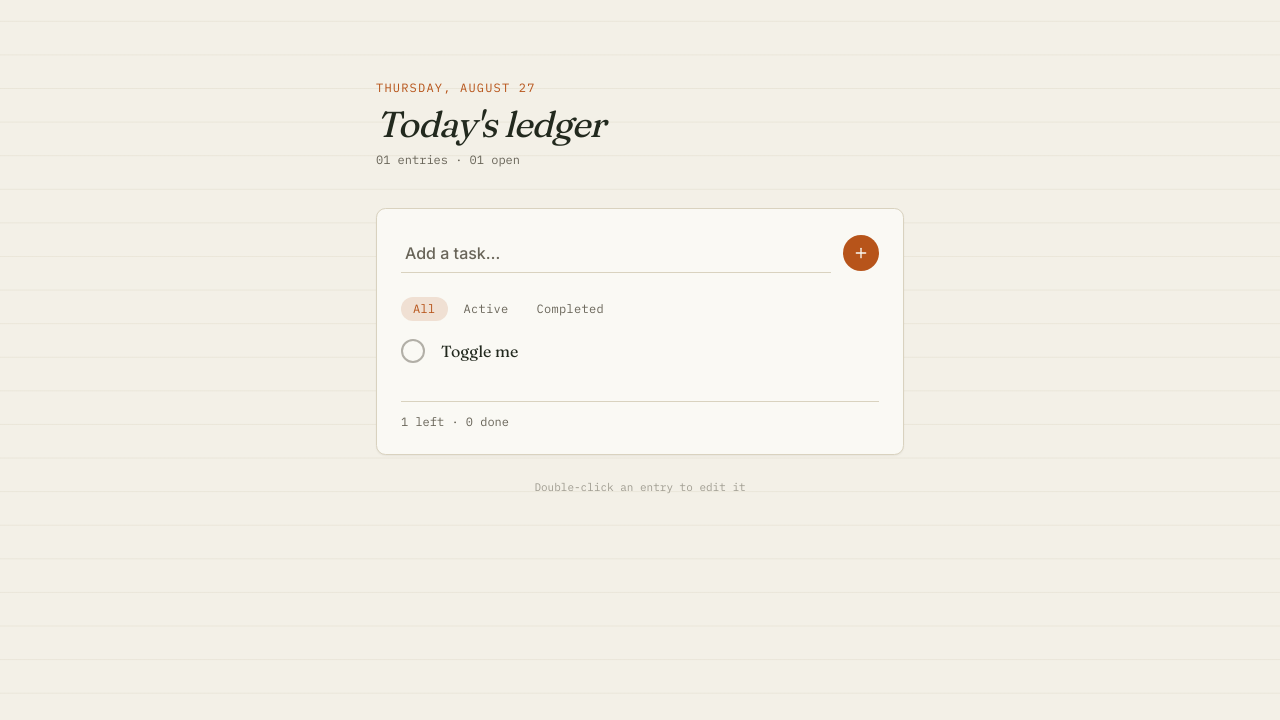
it: Todo app integration (Page + useTodos + api.ts, network mocked) › toggles a todo end-to-end and updates the footer count
Check: the text "Toggle me" is shown, box [441,341,518,361]
Click the checkbox named "Mark as done" at (413, 351), box [401,339,425,363]
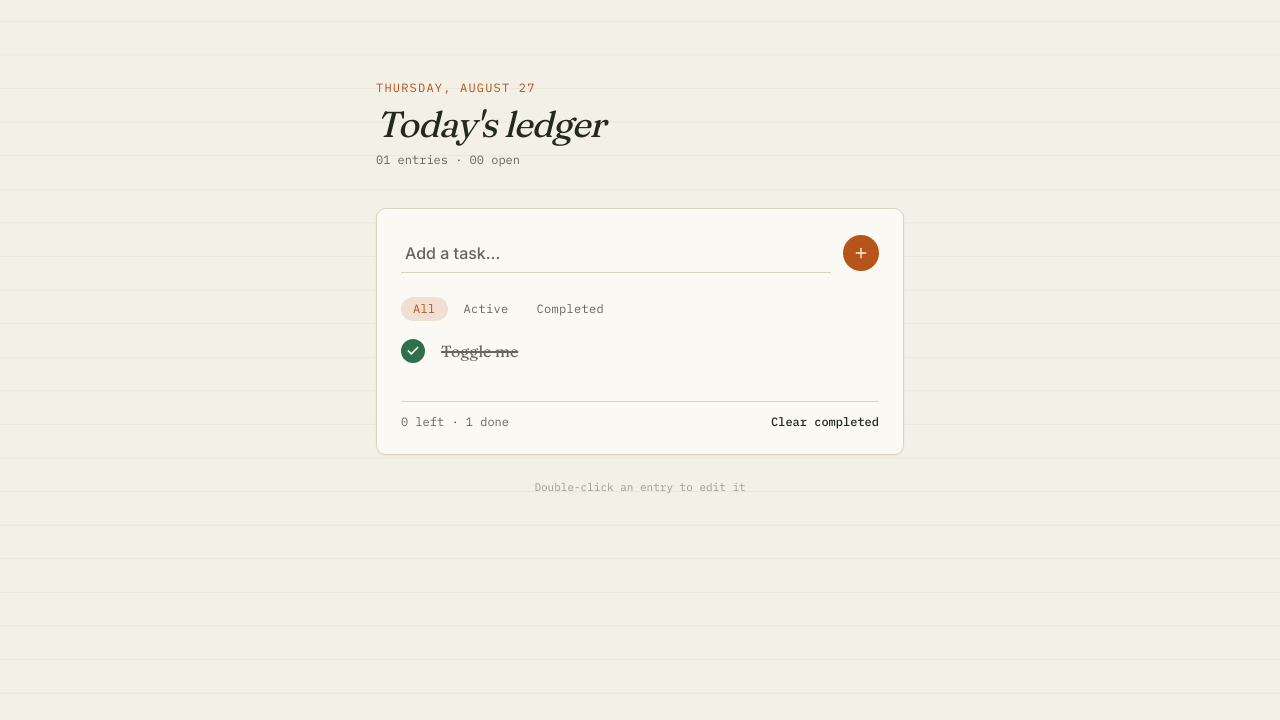
Check: the text "0 left · 1 done" is shown, box [401,414,509,430]
